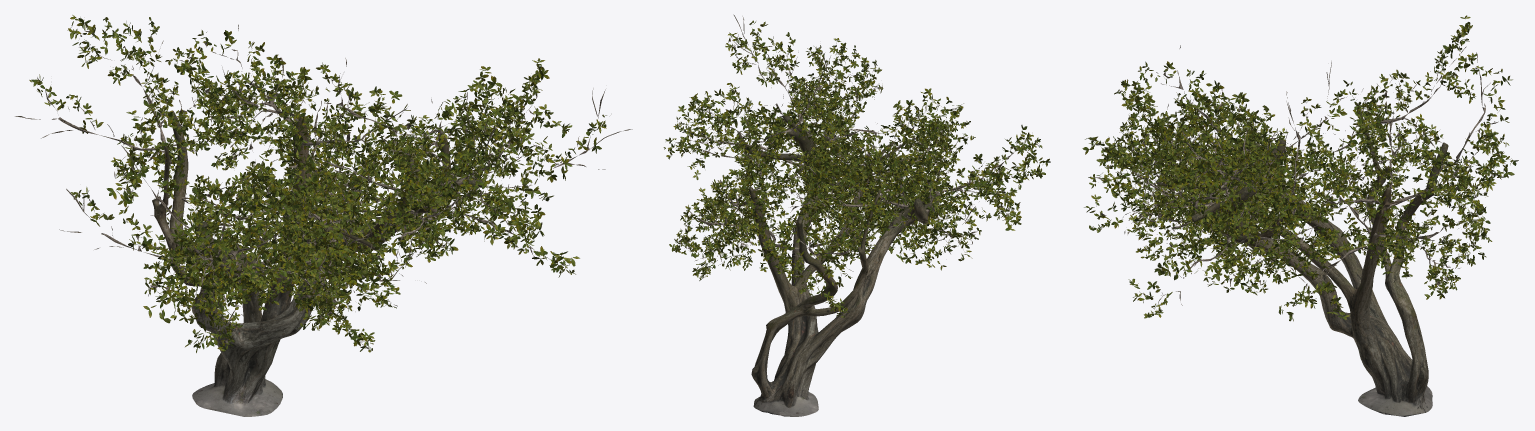
The model's file is island_tree_02_detail.gltf.
3 views of the same model, side by side, from view 1: azimuth 30°, elevation 25°; view 2: azimuth 150°, elevation 25°; view 3: azimuth 270°, elevation 25° (orthographic). The views are drawn at different scales.
Visible parts, largest first — view 1: baum; view 2: baum; view 3: baum.
Part boxes in pixels (left/top/right/bottom): baum: left=15, top=15, right=632, bottom=416; baum: left=663, top=14, right=1050, bottom=416; baum: left=1082, top=15, right=1518, bottom=416.
Size of the model in its own units: 4.2 by 3.41 by 4.09.
Materials: 3 (3 with a texture image).
